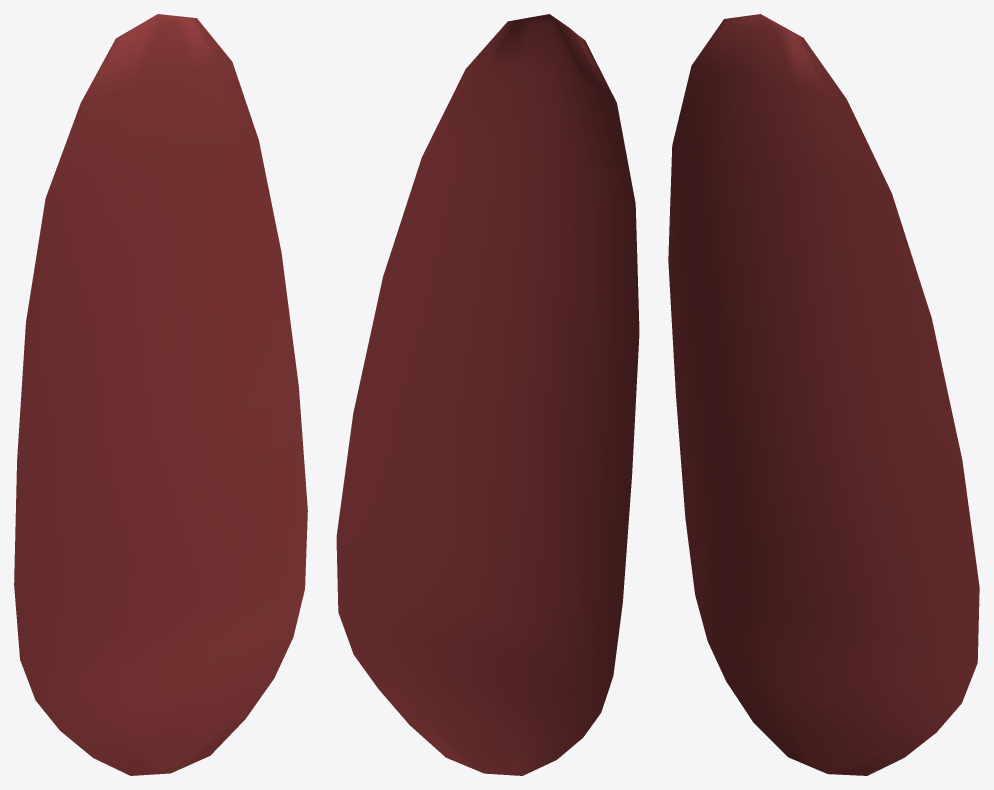
File: suprapatellar-bursa-r.glb
3 renders of one model, left to right at view 1: azimuth 30°, elevation 25°; view 2: azimuth 150°, elevation 25°; view 3: azimuth 330°, elevation 25°, orthographic. The views are drawn at different scales.
Parts seen in each view (by area): view 1: Suprapatellar bursa.r; view 2: Suprapatellar bursa.r; view 3: Suprapatellar bursa.r.
Boxes of the visible parts, x1,y1,x2,y2 form: Suprapatellar bursa.r: (14, 14, 307, 775); Suprapatellar bursa.r: (336, 14, 639, 775); Suprapatellar bursa.r: (668, 14, 979, 775).
Bounding box in the file's own units: 0.0269 × 0.0675 × 0.00642.
